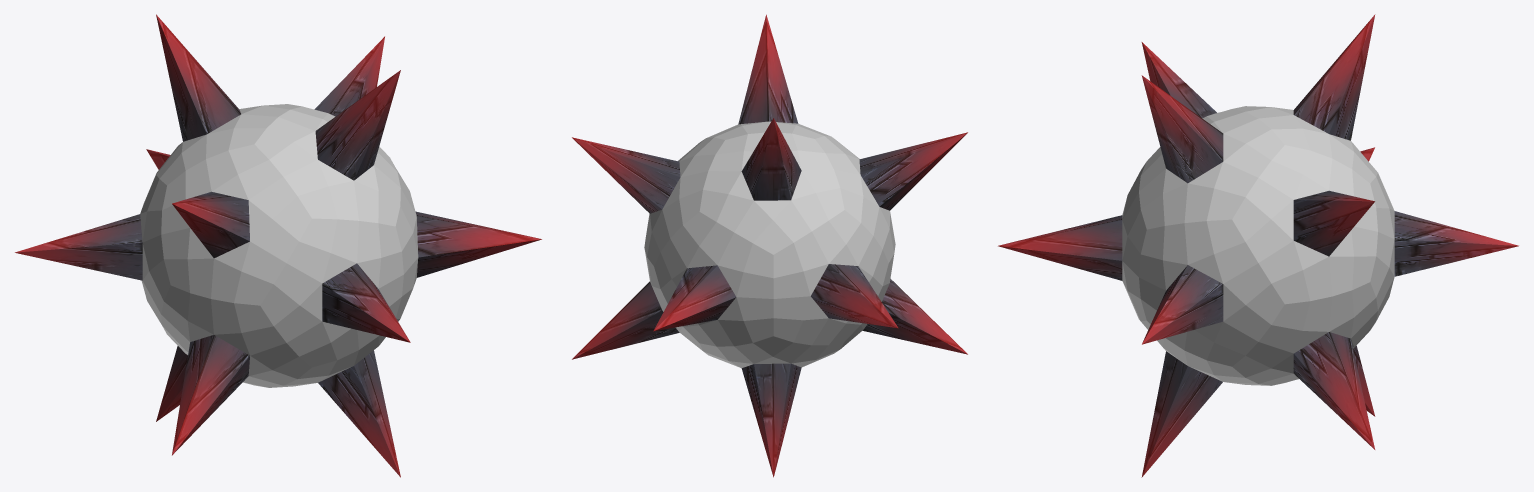
The model's file is spikedConker.obj.
3 renders of one model, left to right at view 1: azimuth 30°, elevation 25°; view 2: azimuth 150°, elevation 25°; view 3: azimuth 270°, elevation 25°, orthographic. The views are drawn at different scales.
Parts seen in each view (by area): view 1: pPlatonic1; view 2: pPlatonic1; view 3: pPlatonic1.
Part boxes in pixels (bbox=[...]): pPlatonic1: bbox=[15, 14, 541, 477]; pPlatonic1: bbox=[572, 14, 967, 477]; pPlatonic1: bbox=[998, 14, 1518, 477].
Size of the model in its own units: 3.32 by 3.16 by 3.72.
